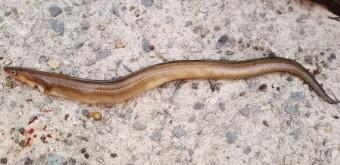fish: (3, 58, 338, 104)
